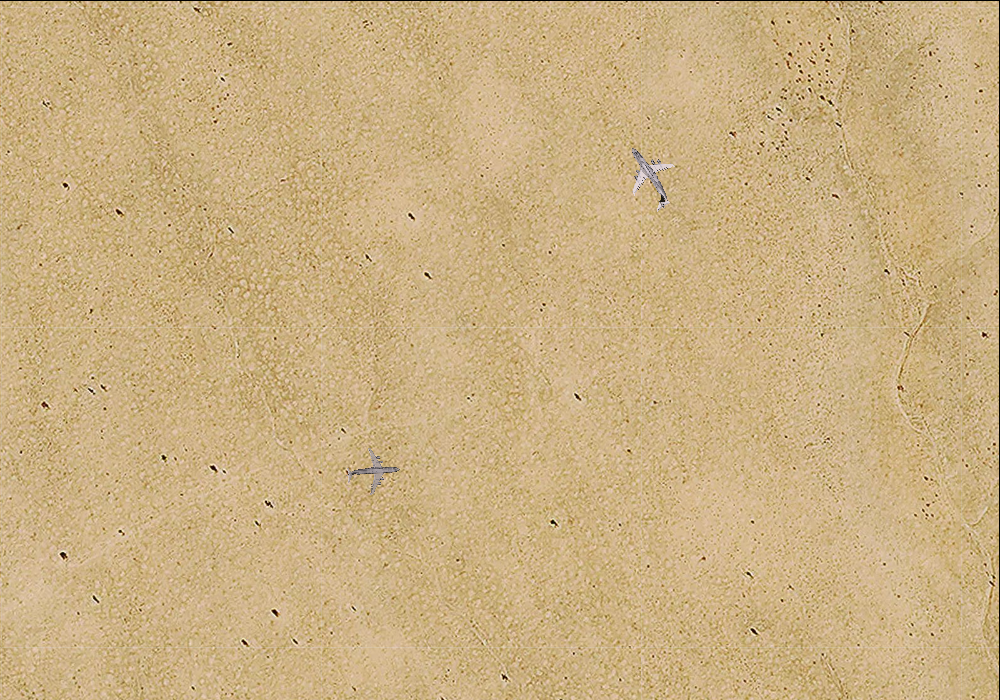plane: (605, 132, 693, 222), (344, 445, 400, 499)
